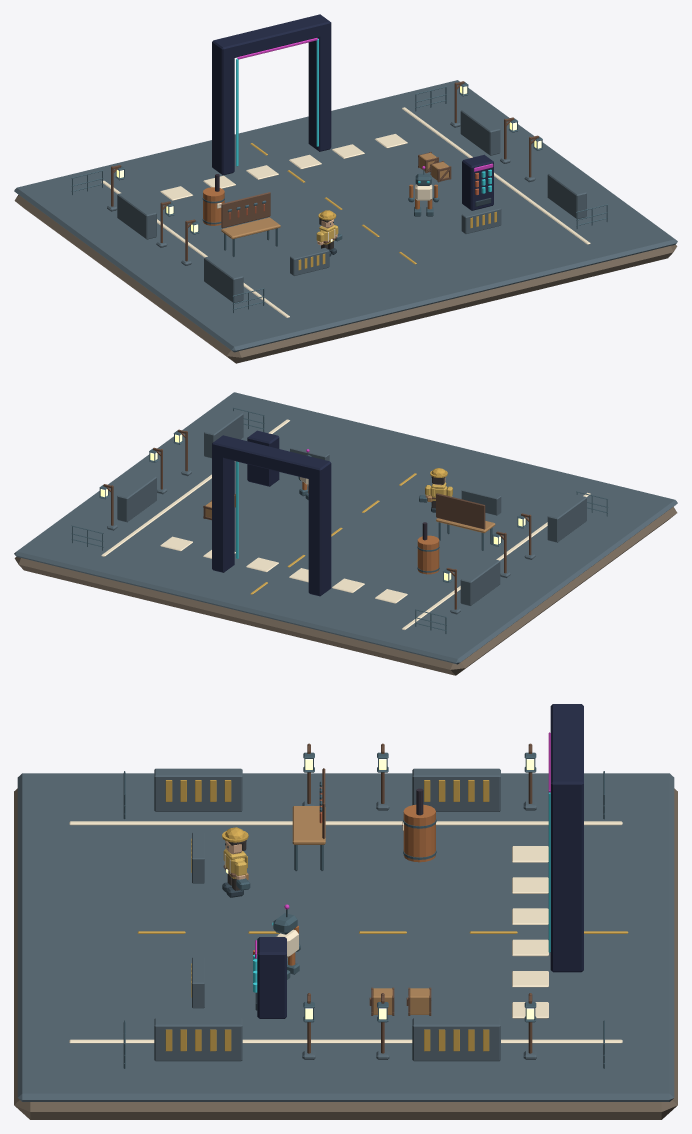
The model's file is world-race.glb.
3 views of the same model, one above another, from view 1: azimuth 30°, elevation 25°; view 2: azimuth 150°, elevation 25°; view 3: azimuth 270°, elevation 25° (orthographic). The views are drawn at different scales.
Visible parts, largest first — view 1: terrain-top, terrain-stratum, portal-pillar.002, portal-lintel.001, portal-pillar.003, vending-body.001, barrier.004, barrier.003, barrier.002, barrier.001, pegboard.001, barrier.006 (+4 smaller); view 2: terrain-top, terrain-stratum, portal-pillar.002, portal-pillar.003, portal-lintel.001, barrier.003, barrier.001, barrier.004, pegboard.001, vending-body.001, barrier.002, boiler.001 (+3 smaller); view 3: terrain-top, terrain-stratum, portal-pillar.003, barrier.002, barrier.004, barrier.001, portal-lintel.001, barrier.003, vending-body.001, track-edge, track-edge.001, boiler.001 (+8 smaller).
Boxes of the visible parts, x1=… form: terrain-top: x1=14, y1=80, x2=677, y2=352; terrain-stratum: x1=14, y1=195, x2=677, y2=363; portal-pillar.002: x1=212, y1=49, x2=234, y2=175; portal-lintel.001: x1=212, y1=14, x2=331, y2=59; portal-pillar.003: x1=308, y1=30, x2=331, y2=151; vending-body.001: x1=462, y1=154, x2=493, y2=210; barrier.004: x1=460, y1=108, x2=500, y2=155; barrier.003: x1=117, y1=192, x2=156, y2=239; barrier.002: x1=547, y1=171, x2=586, y2=218; barrier.001: x1=204, y1=255, x2=243, y2=302; pegboard.001: x1=221, y1=192, x2=270, y2=228; barrier.006: x1=461, y1=206, x2=501, y2=233; terrain-top: x1=14, y1=392, x2=677, y2=664; terrain-stratum: x1=14, y1=507, x2=677, y2=675; portal-pillar.002: x1=308, y1=470, x2=331, y2=596; portal-pillar.003: x1=212, y1=450, x2=234, y2=572; portal-lintel.001: x1=212, y1=435, x2=331, y2=480; barrier.003: x1=460, y1=558, x2=500, y2=605; barrier.001: x1=547, y1=495, x2=586, y2=542; barrier.004: x1=117, y1=474, x2=156, y2=522; pegboard.001: x1=436, y1=493, x2=485, y2=529; vending-body.001: x1=247, y1=430, x2=279, y2=486; barrier.002: x1=204, y1=411, x2=243, y2=458; boiler.001: x1=417, y1=535, x2=439, y2=574; terrain-top: x1=17, y1=773, x2=674, y2=1101; terrain-stratum: x1=14, y1=788, x2=677, y2=1119; portal-pillar.003: x1=550, y1=794, x2=583, y2=972; barrier.002: x1=154, y1=1018, x2=242, y2=1061; barrier.004: x1=412, y1=1018, x2=500, y2=1061; barrier.001: x1=154, y1=768, x2=242, y2=811; portal-lintel.001: x1=550, y1=704, x2=583, y2=800; barrier.003: x1=412, y1=768, x2=500, y2=811; vending-body.001: x1=257, y1=937, x2=286, y2=1018; track-edge: x1=69, y1=821, x2=622, y2=825; track-edge.001: x1=69, y1=1039, x2=622, y2=1043; boiler.001: x1=403, y1=804, x2=435, y2=862.
Bounding box in the file's own units: 21 × 6.59 × 18.
